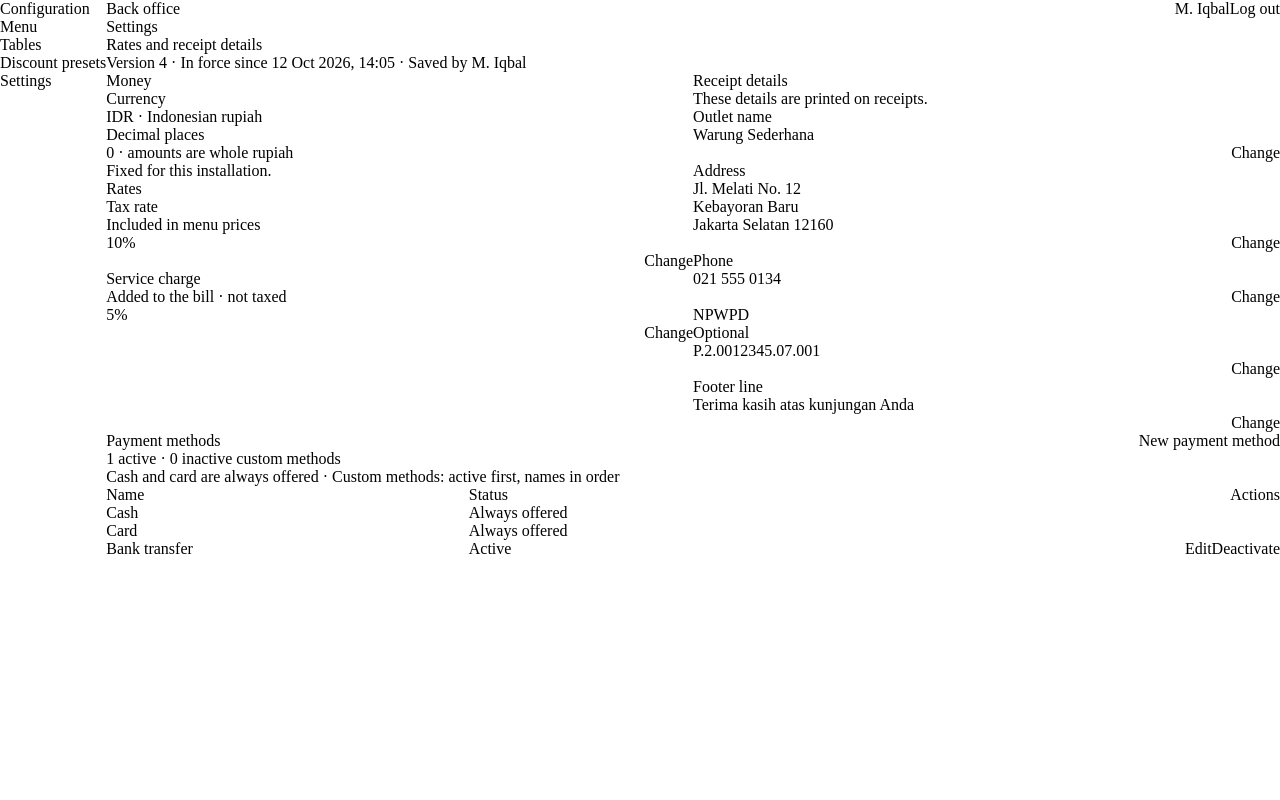
Test: AC 3. the name check in the form › opens a named, non-modal panel with Method name focused, the context sentence and the help
The image size is (1280, 800).
Click the button "New payment method".
click(1209, 441)  # box [1139,432,1279,450]
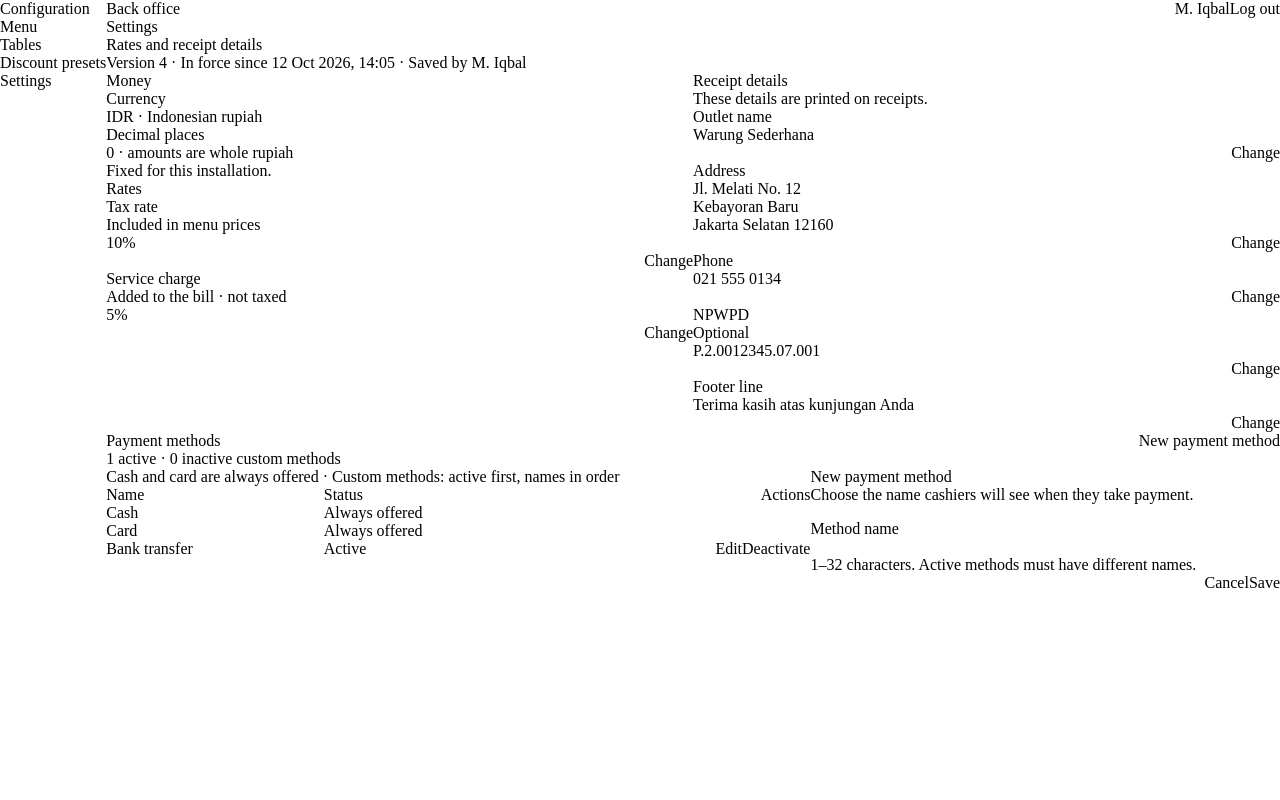
Check: the text with id "method-context" reads "Choose the name cashiers will see when they take payment.", box [810,486,1194,503]
Check: the text with id "method-help" reads "1–32 characters. Active methods must have different names.", box [810,556,1196,573]
Check: the label "Method name" is shown, box [810,520,899,537]
